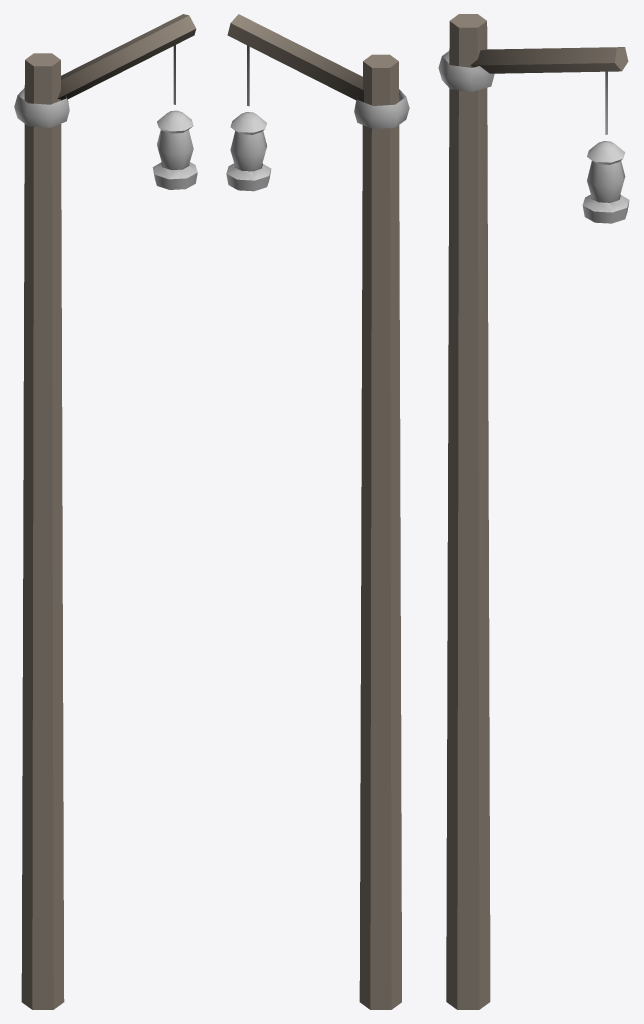
The model's file is poste_farol.glb.
3 renders of one model, left to right at view 1: azimuth 30°, elevation 25°; view 2: azimuth 150°, elevation 25°; view 3: azimuth 330°, elevation 25°, orthographic. The views are drawn at different scales.
Visible parts, largest first — view 1: poste_farol; view 2: poste_farol; view 3: poste_farol.
Part boxes in pixels (x1,y1,x2,y2): poste_farol: (14,14,197,1009); poste_farol: (226,14,409,1009); poste_farol: (438,14,629,1009).
Size of the model in its own units: 0.4763 by 2.48 by 0.1326.
